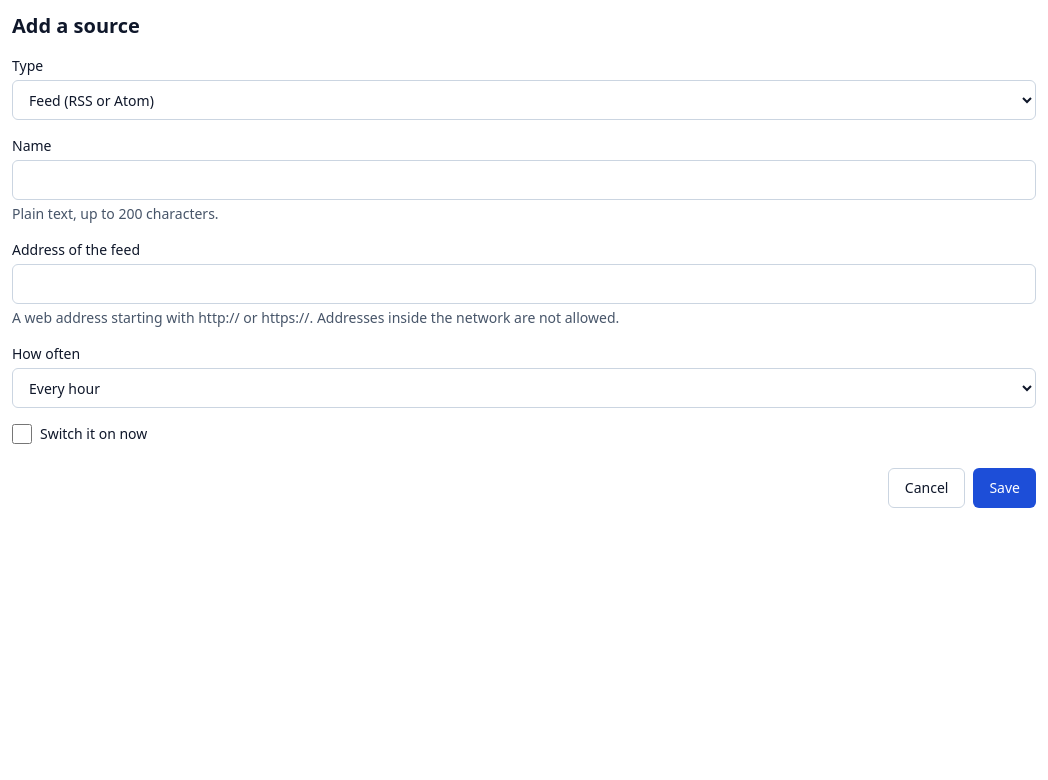
Test: adding a source › does not ask when the name is  and the address
Click the button "Save": click(1005, 488) [973,468,1036,508]
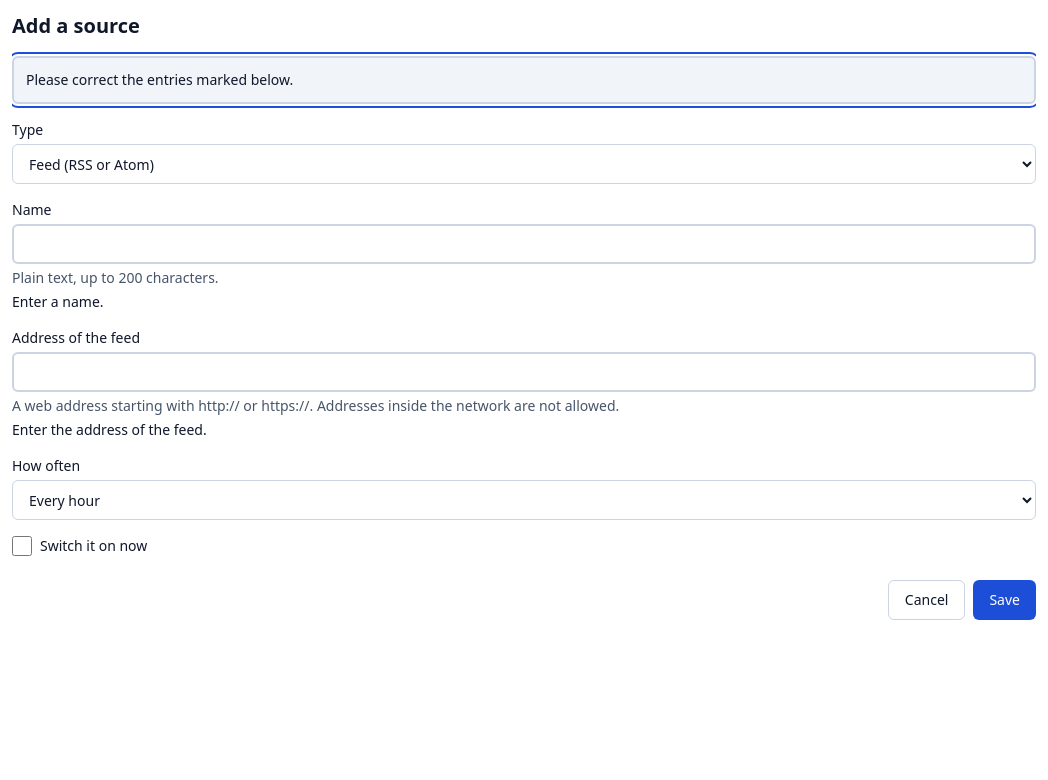
Expected: the message reads "Please correct the entries marked below.", [26,70,293,89]
Expected: the text "Enter a name." is shown, [12,292,104,311]
